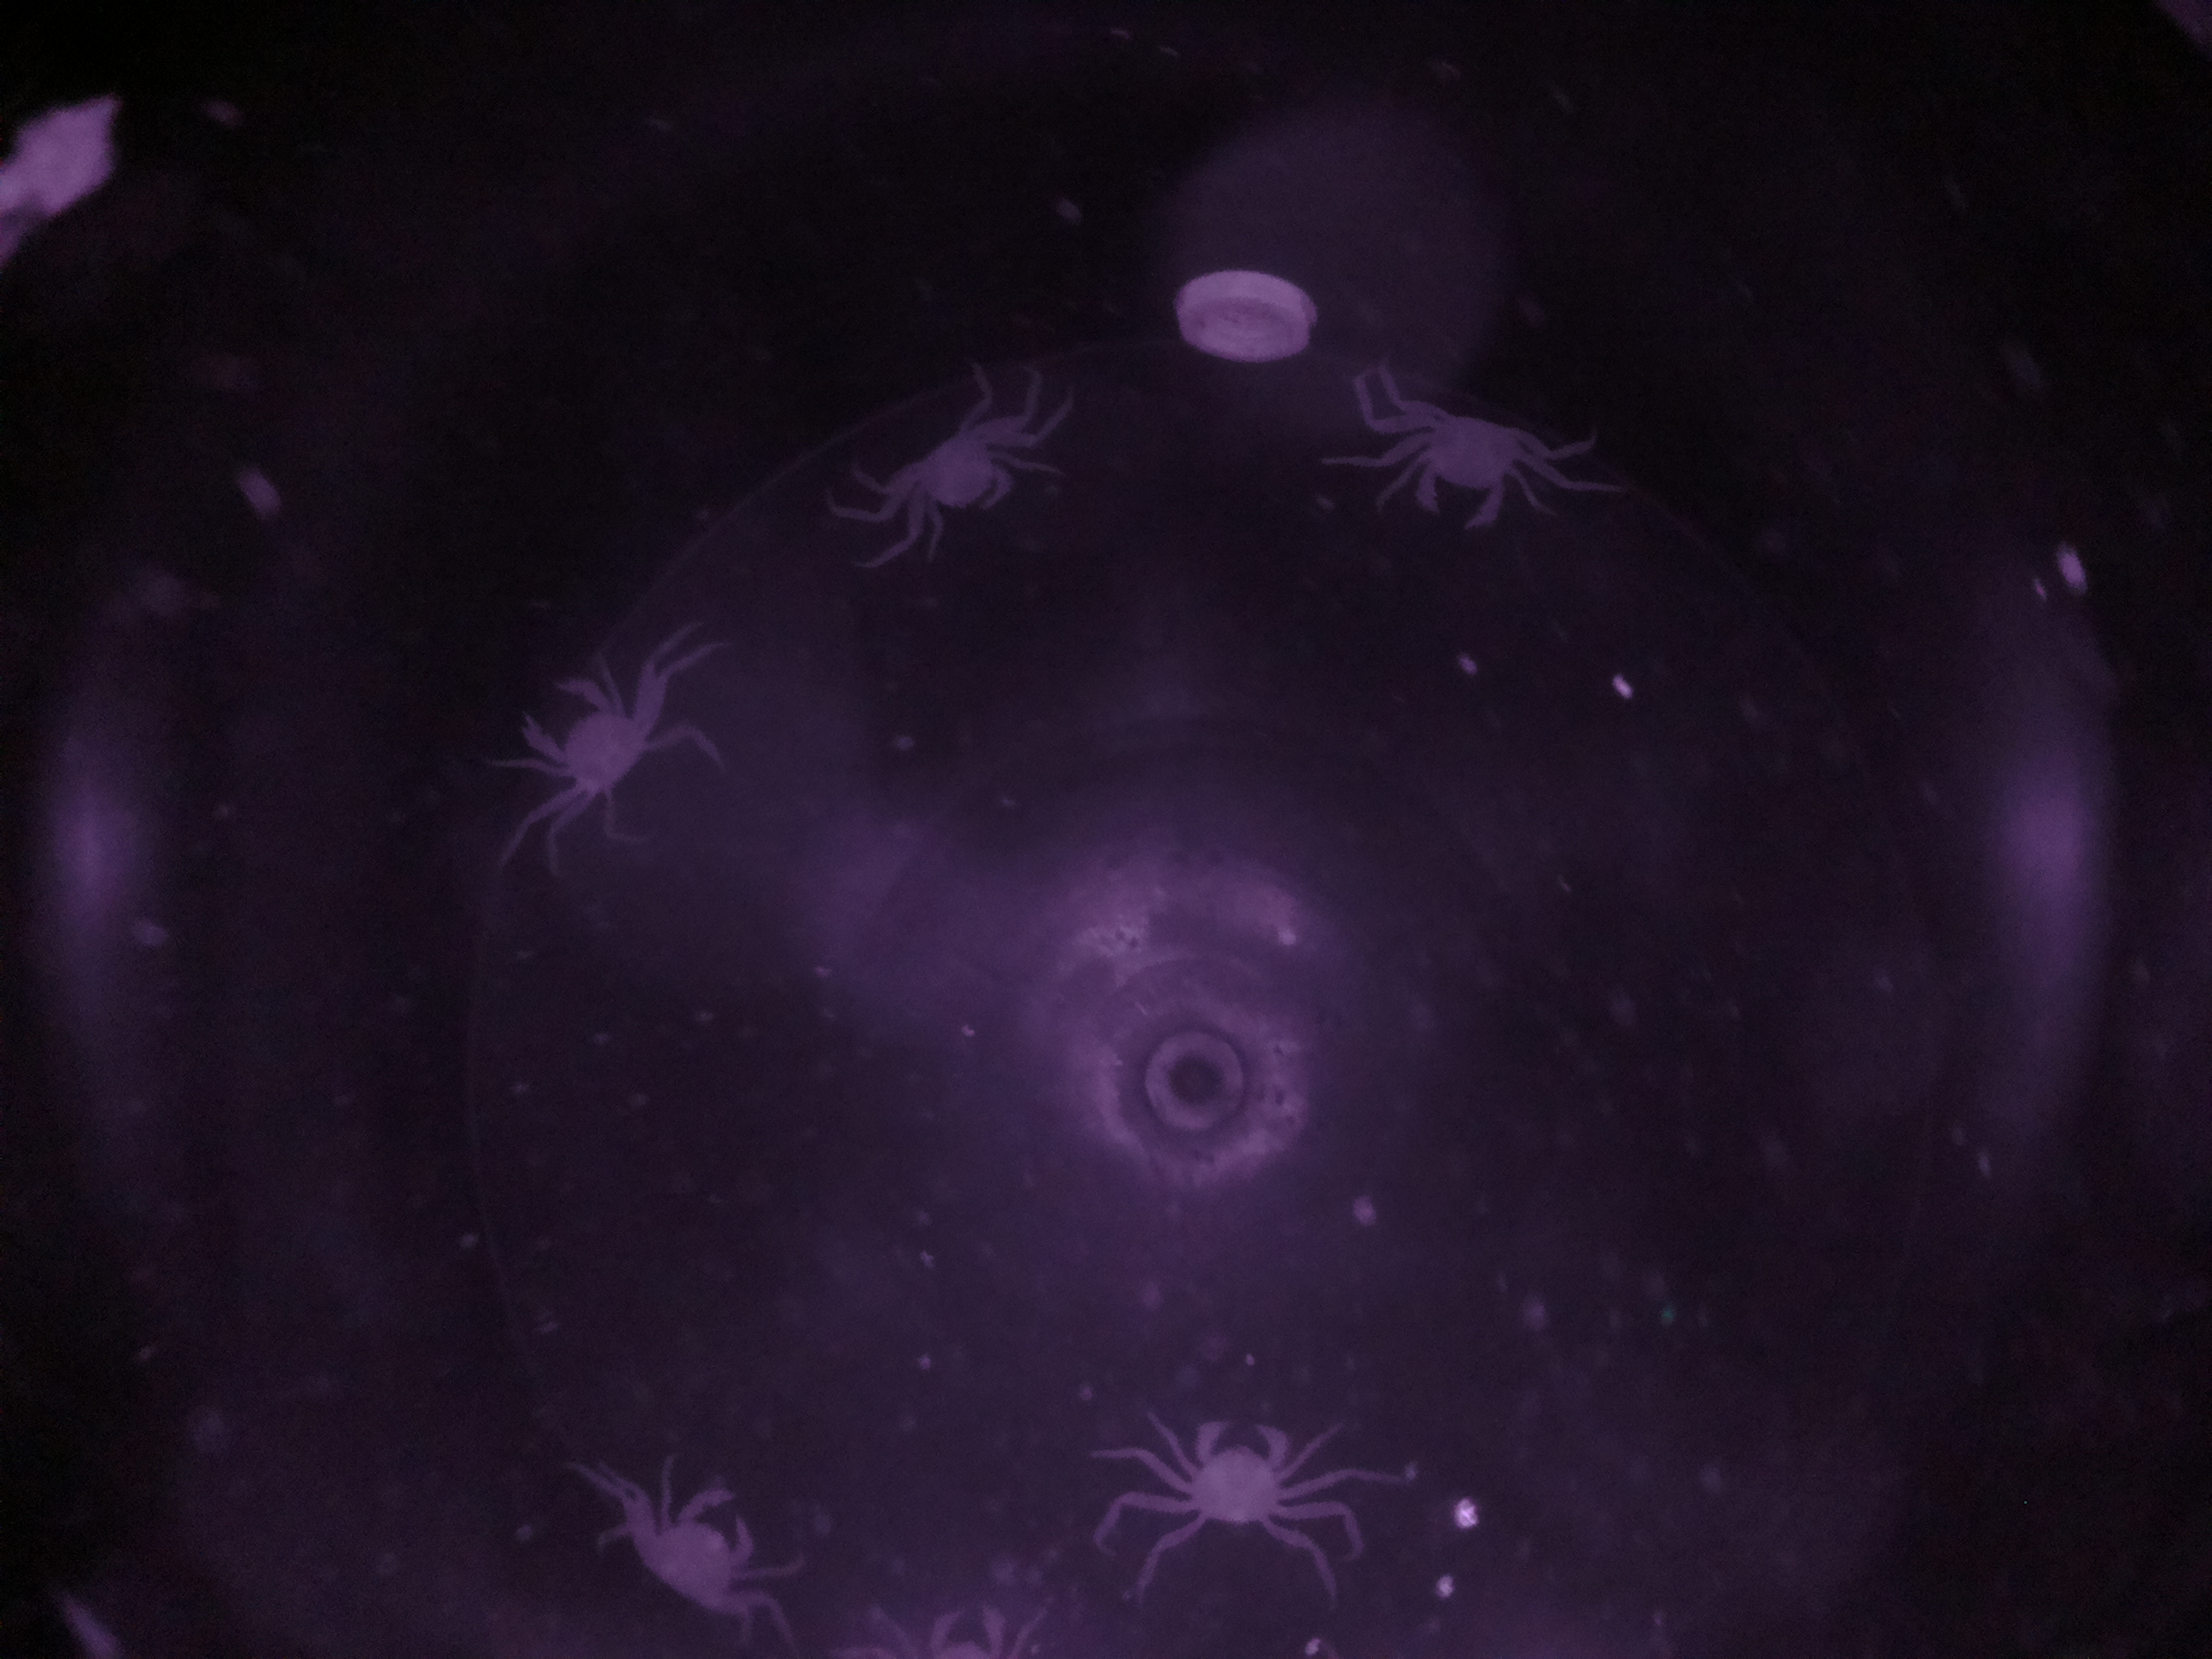Crab: (1329, 376, 1594, 542), (622, 1460, 791, 1642), (519, 653, 697, 824), (1146, 1405, 1329, 1558), (846, 397, 1042, 538)
